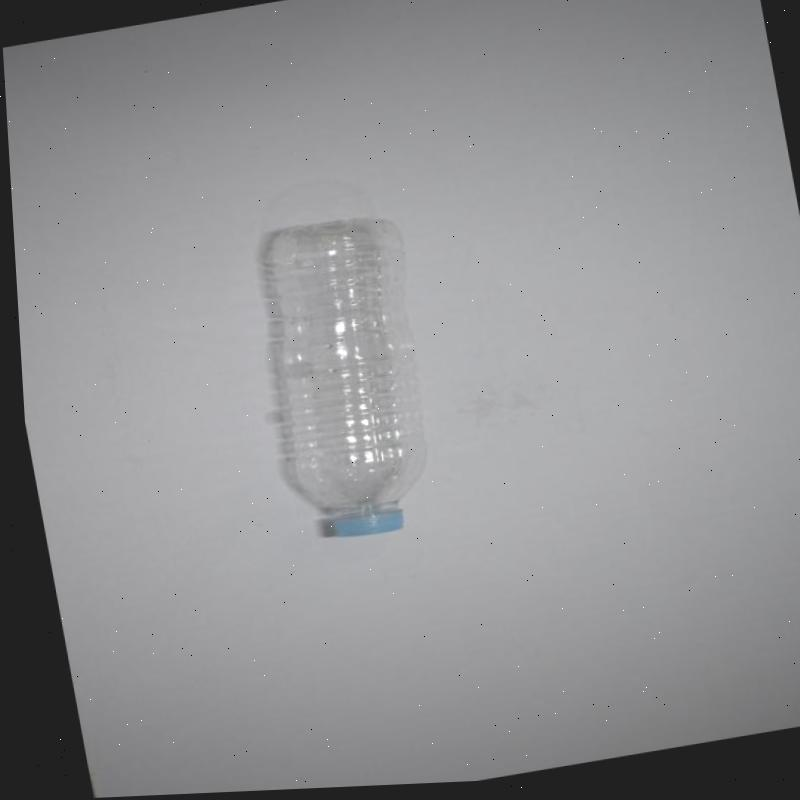botella: (235, 204, 446, 549)
